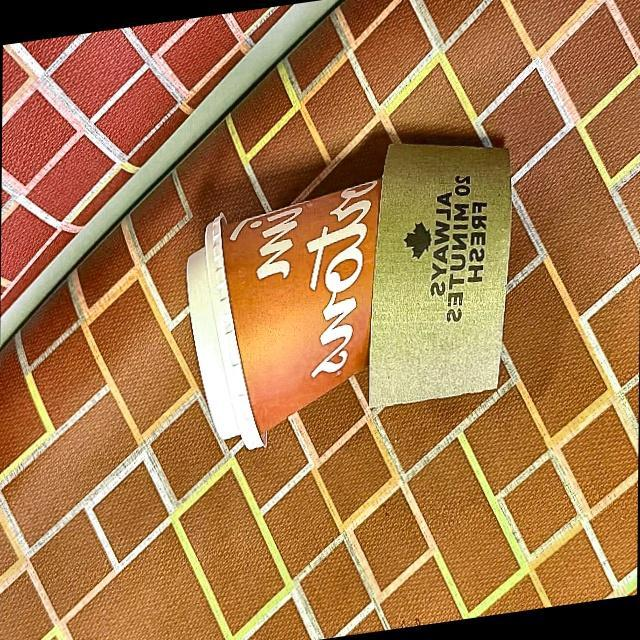timmies: (171, 153, 521, 447)
